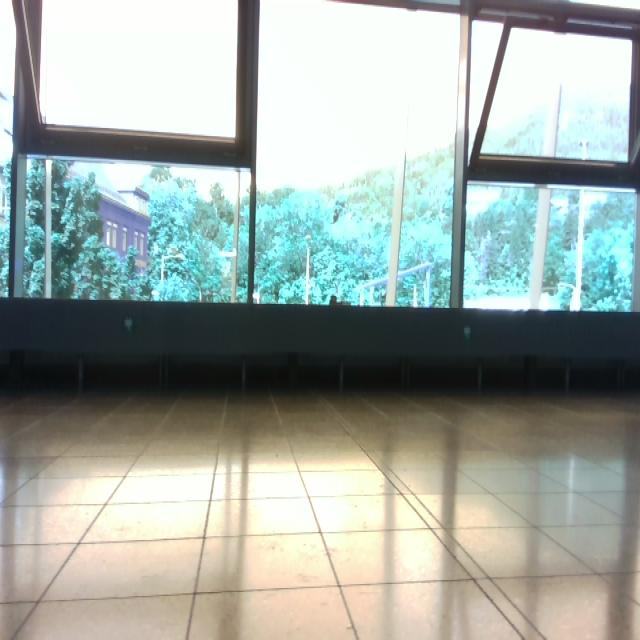door: (2, 1, 640, 638)
light bulb: (579, 140, 589, 161), (124, 317, 134, 332), (305, 235, 312, 243)
tiled floor: (2, 385, 639, 638)
window: (1, 1, 639, 313)
